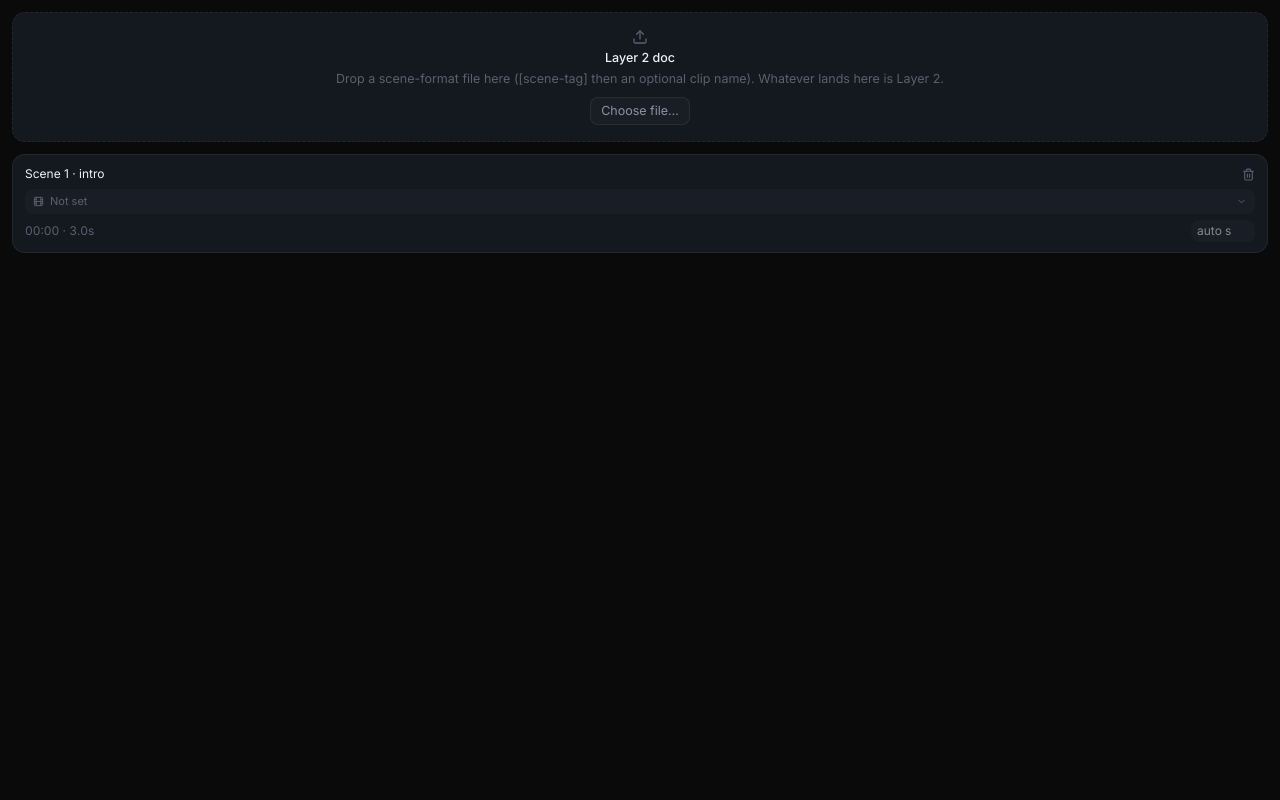
delete confirmation + row select + geometry reset › cancel leaves the spot
The image size is (1280, 800).
Click the button named "Delete spot": (1248, 174) top-left (1242, 168), bottom-right (1255, 181)
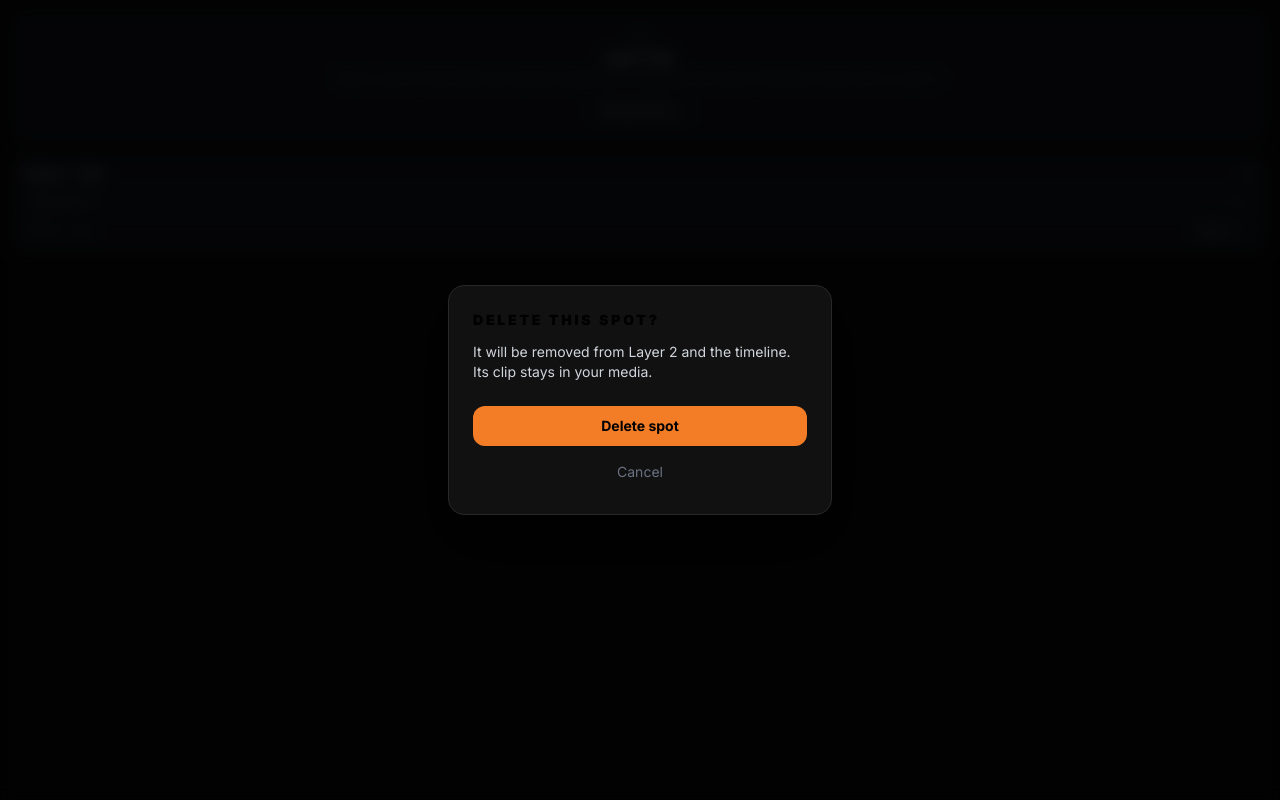
Click the button "Cancel": (640, 472) top-left (473, 454), bottom-right (807, 490)
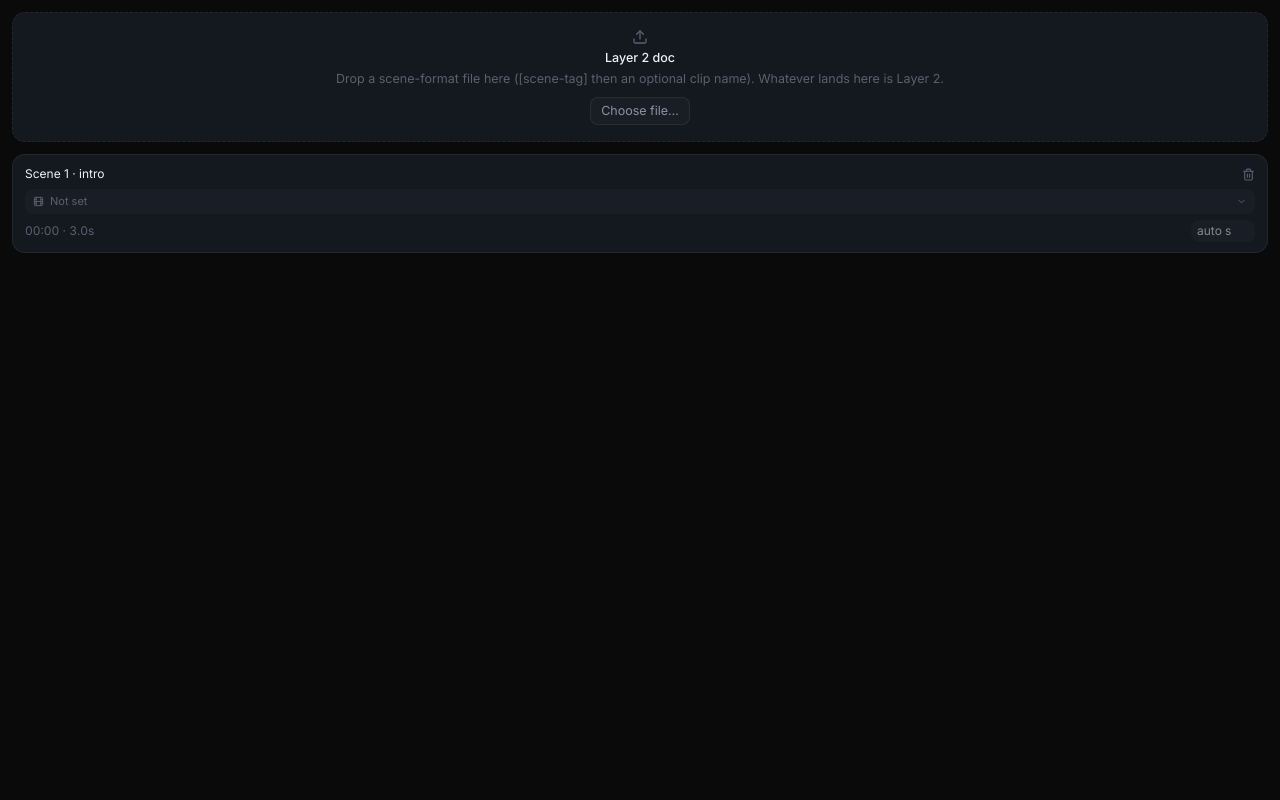
Result: the dialog is gone
